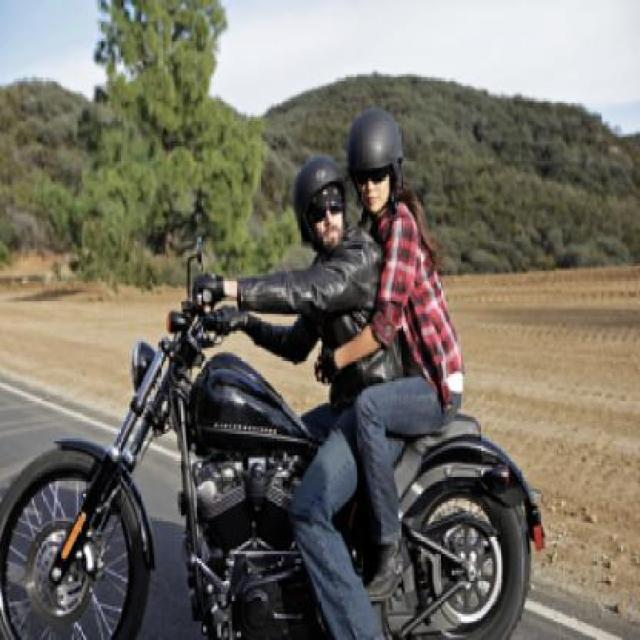With Helmet: (294, 151, 351, 258), (350, 106, 402, 214)
